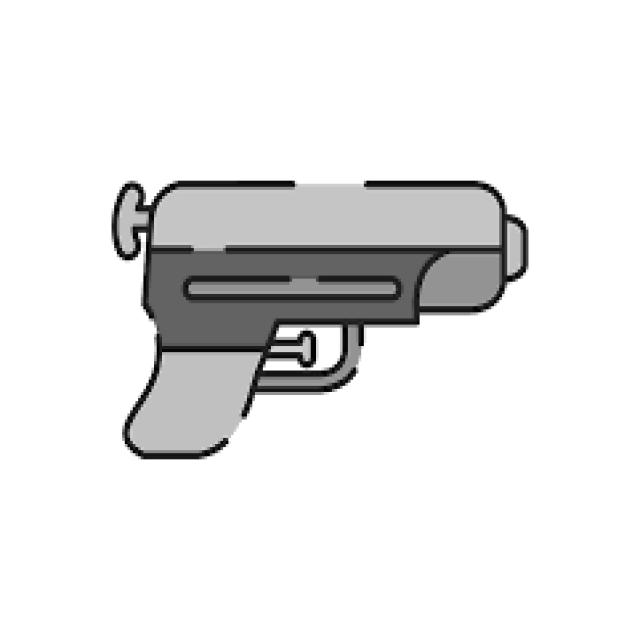gun: (109, 174, 528, 460)
